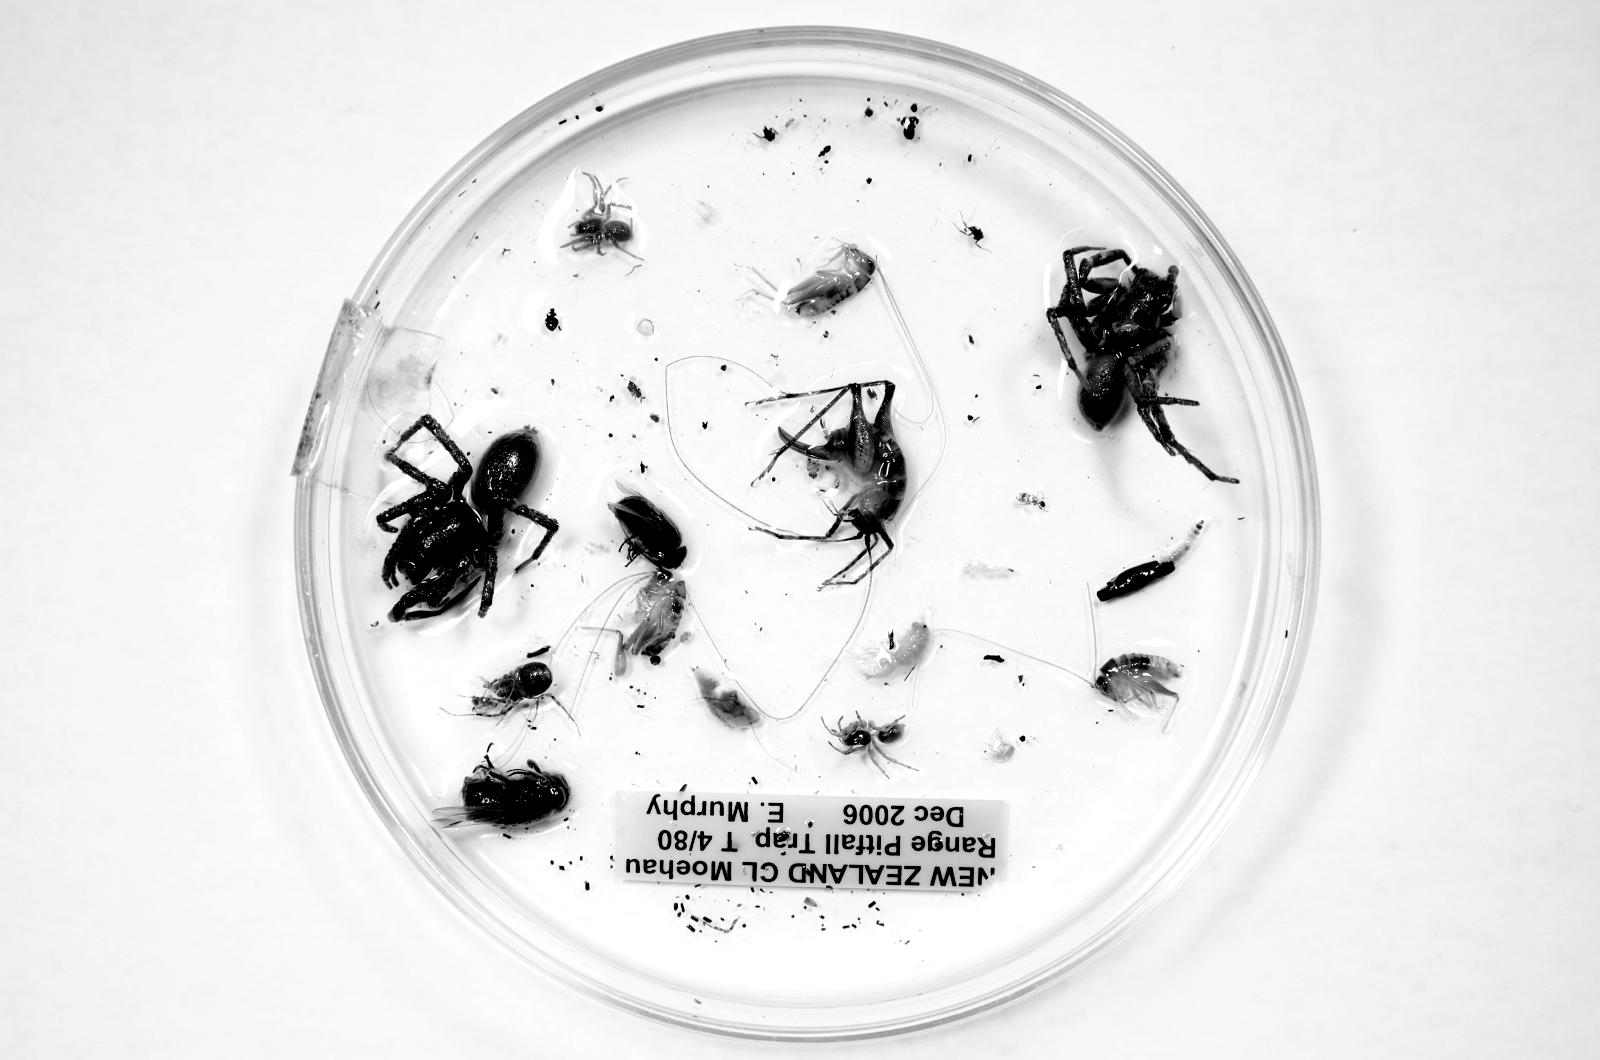amphipoda: (848, 615, 931, 683)
araneae: (1047, 246, 1239, 484), (376, 415, 558, 621), (561, 172, 642, 260), (826, 713, 904, 762)
diptera: (433, 756, 570, 827), (609, 495, 686, 572)
opiliones: (472, 661, 553, 717)
orthoptera: (757, 381, 906, 588), (783, 242, 876, 316), (619, 572, 686, 664), (1095, 653, 1181, 713)
